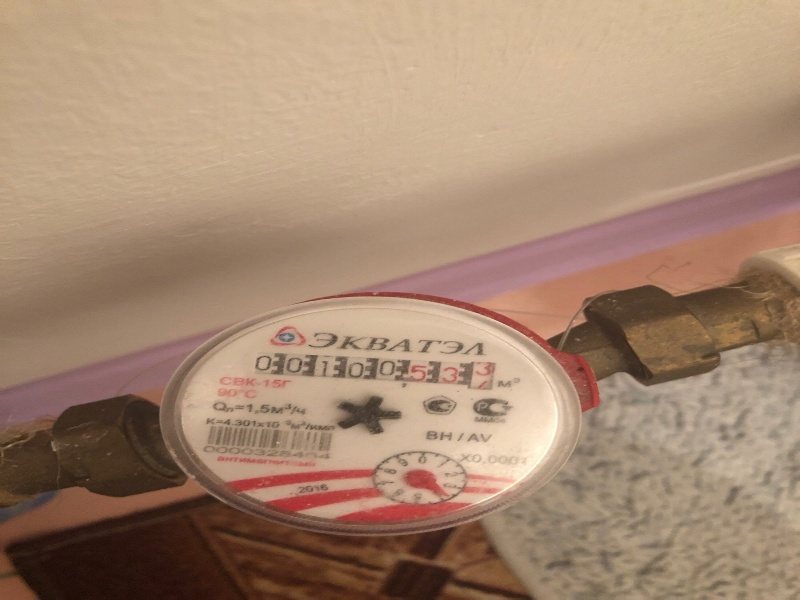meter: (246, 350, 502, 392)
